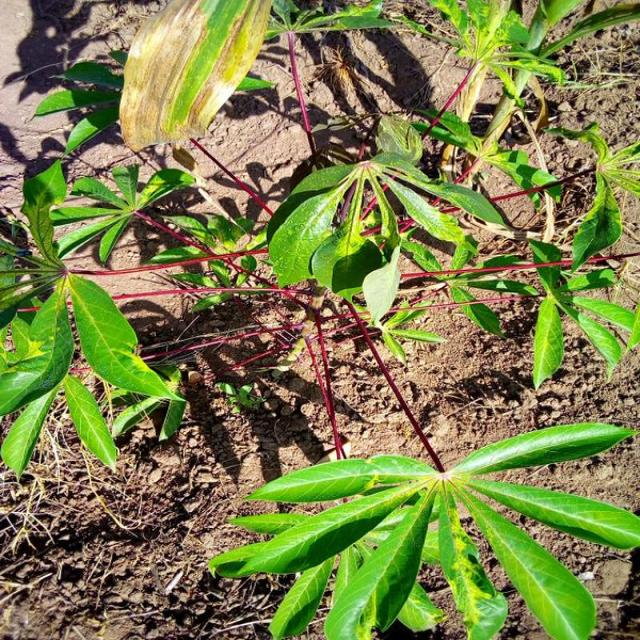cassava leaf: (209, 419, 638, 638), (118, 0, 272, 153)
